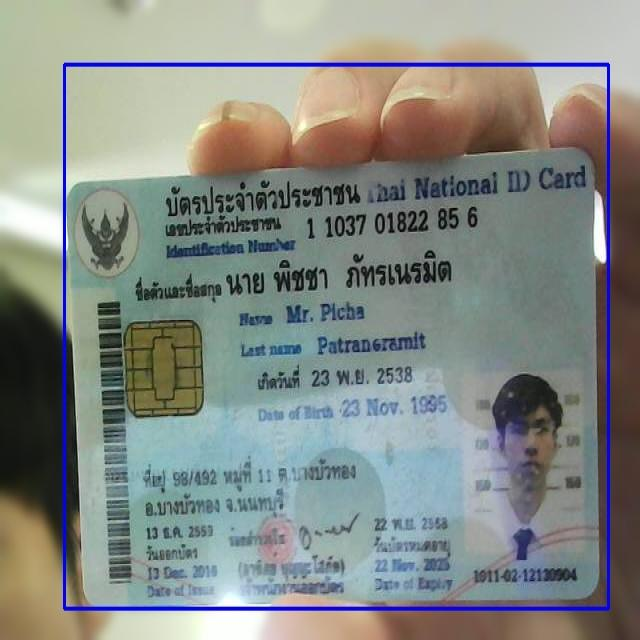Address_th: (137, 449, 376, 524)
Date_of_Birth: (339, 391, 451, 424)
Date_of_Expiry: (371, 552, 457, 576)
Date_of_Issue: (141, 562, 225, 584)
First_Name: (283, 299, 367, 327)
ID_Number: (305, 204, 482, 244)
Image: (465, 374, 587, 562)
Last_Name: (316, 328, 430, 358)
Thai_Name: (223, 248, 467, 301)
